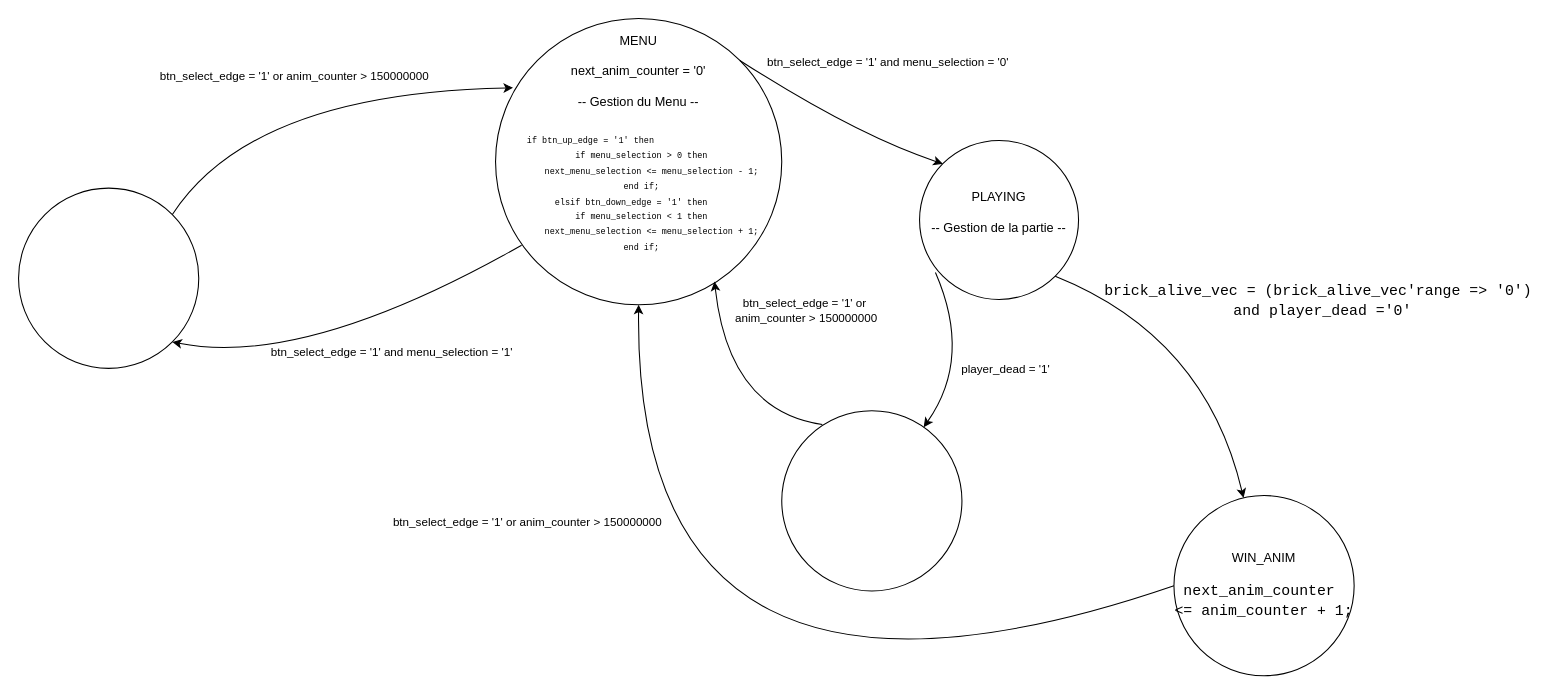
Image size: 1559x694. Some labels were removed from this diagram. The centre of each missing label's shape, as x and y in pixels:
INTRO_ANIM next_anim_counter <= anim_counter + 1 ;: (x=108, y=277)
LOSE_ANIM next_anim_counter <= anim_counter + 1;: (x=871, y=500)
